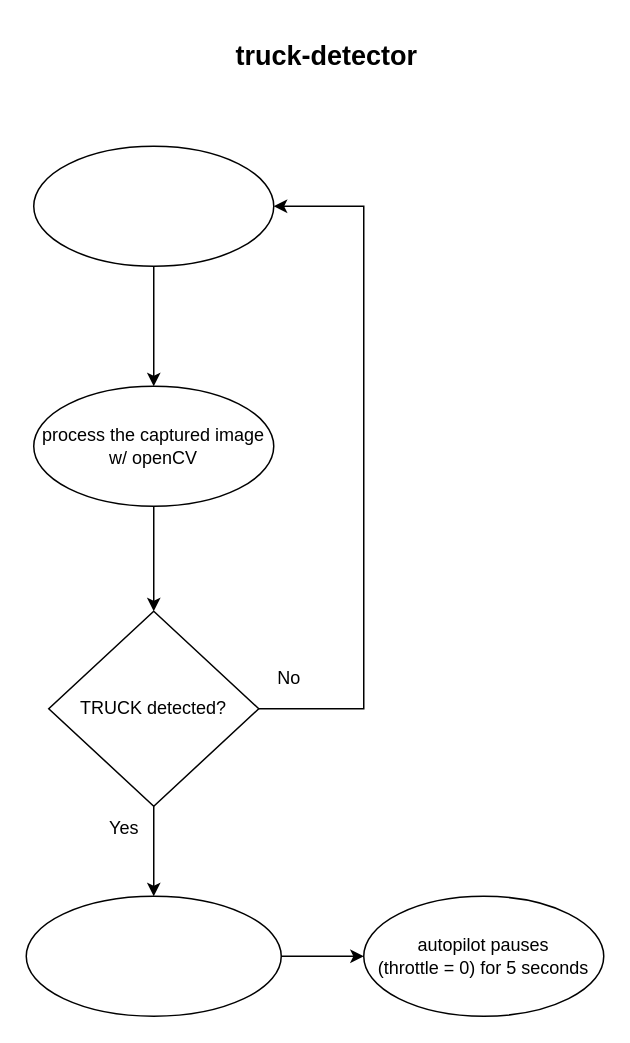
The diagram is 630 pixels wide and 1043 high, and some of its shapes have lost their labels. The shapes that lost their labels are listed below. From the top down, each one's centre as x and y in pixels, then its label:
point (153, 205): If lidar values pass threshold:
point (153, 955): playback "truck detected" from speaker
